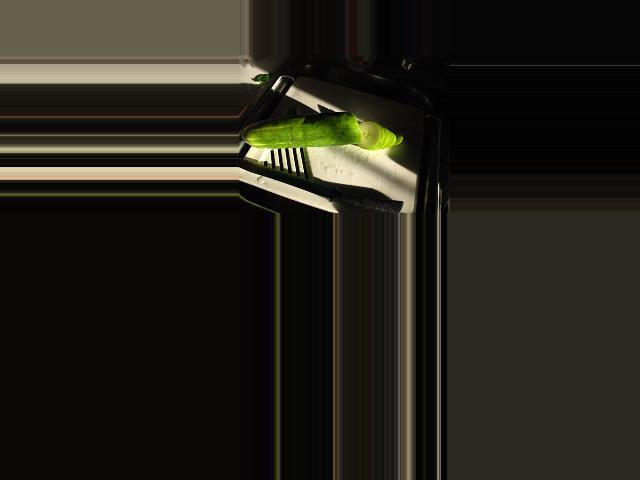cucumber: (242, 112, 362, 149)
